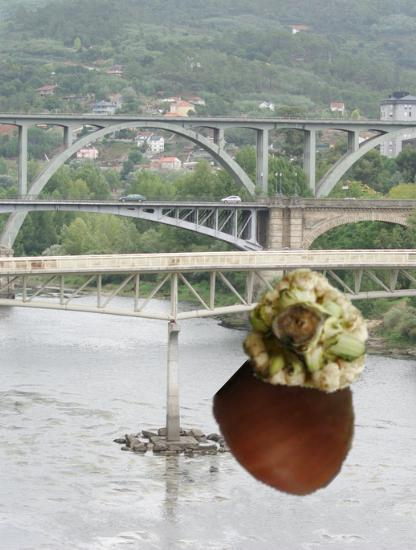Cauliflower: (242, 276, 374, 408)
Nut: (218, 347, 364, 493)
